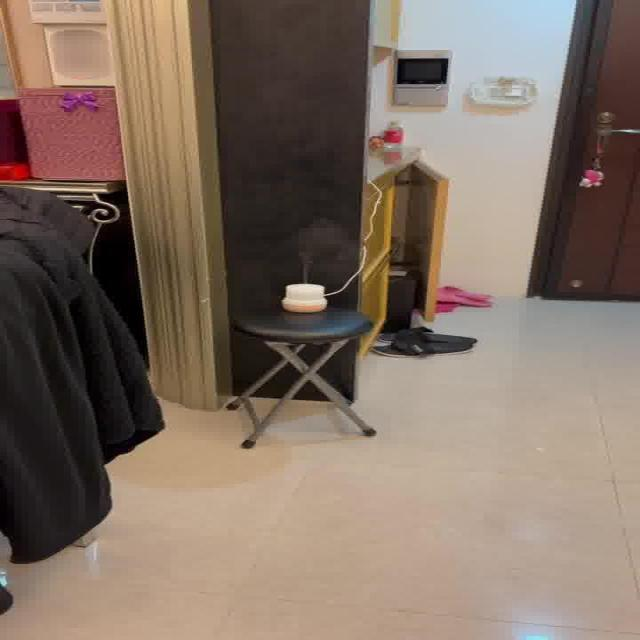fire: (291, 214, 352, 276)
